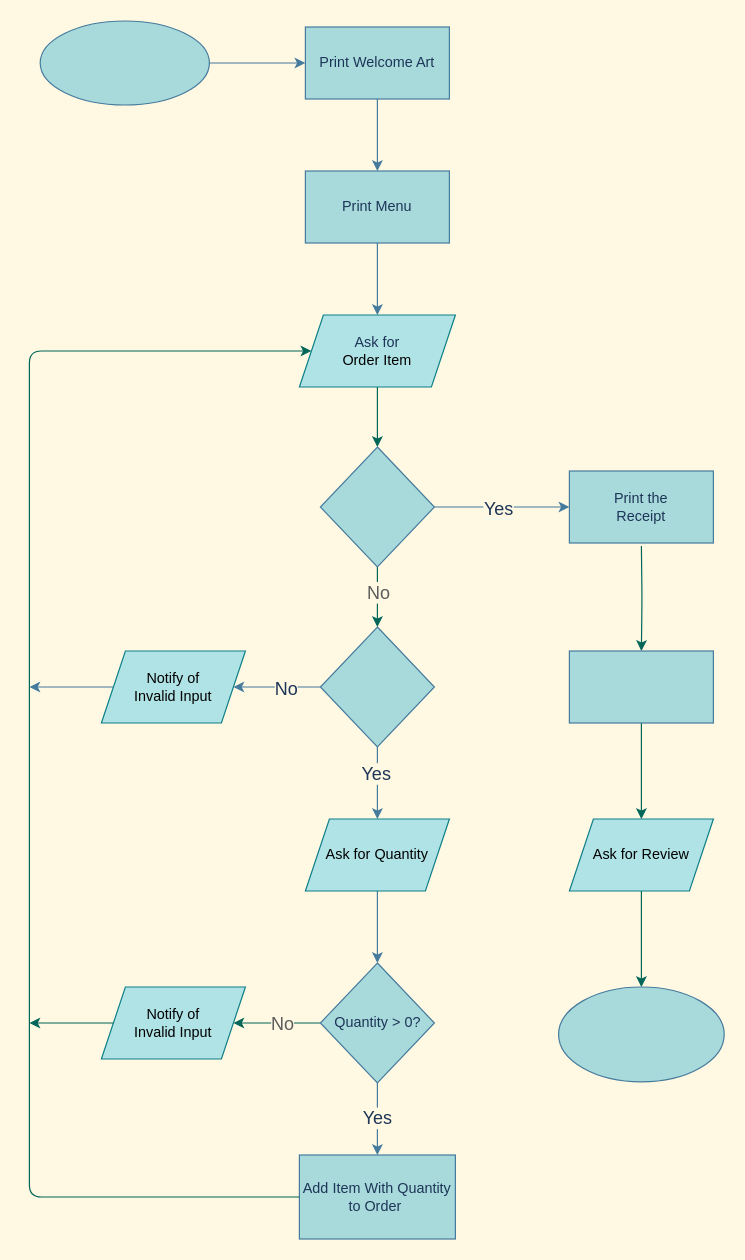
This 745x1260 diagram has some shape labels left out. Here are the shapes that lost their labels. From the top down, the centre of each, then its label:
At (124,62): "Run Ordering App".
At (376,506): "Check Done?".
At (376,686): "Valid Item?".
At (640,686): "Print Goodbye Art".
At (640,1034): "Save Order Total & Review in TXT File".
